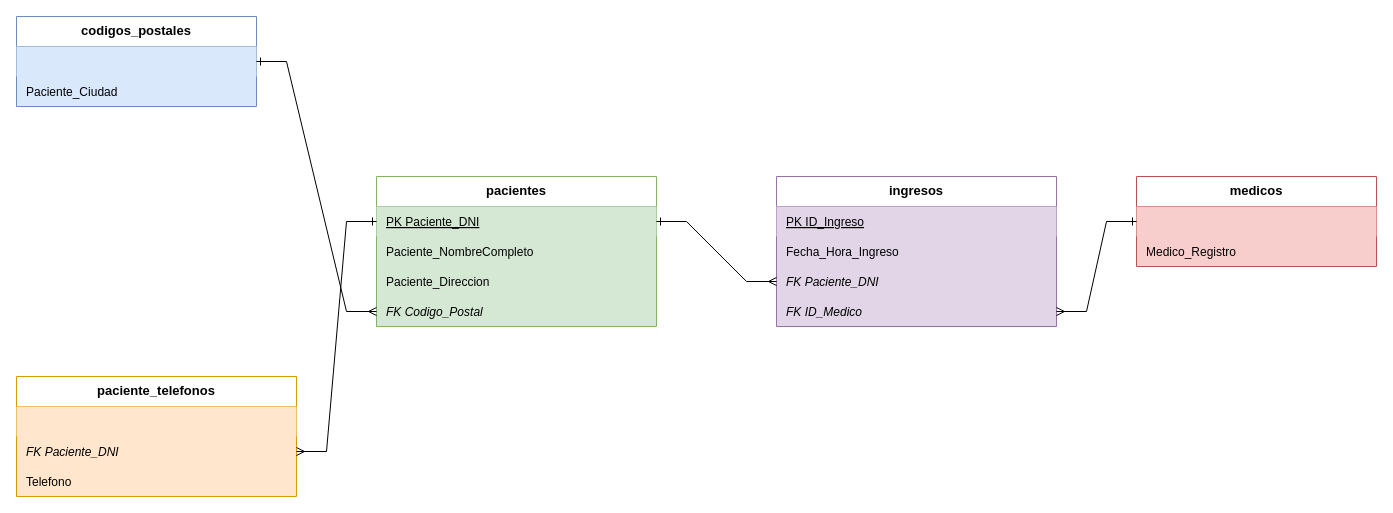
The diagram is 1393 pixels wide and 513 high, and some of its shapes have lost their labels. Each missing label, with the centre of its shape:
"PK Codigo_Postal" belongs at (136,61).
"PK ID_Medico" belongs at (1256,221).
"PK ID_Telefono" belongs at (156,421).
